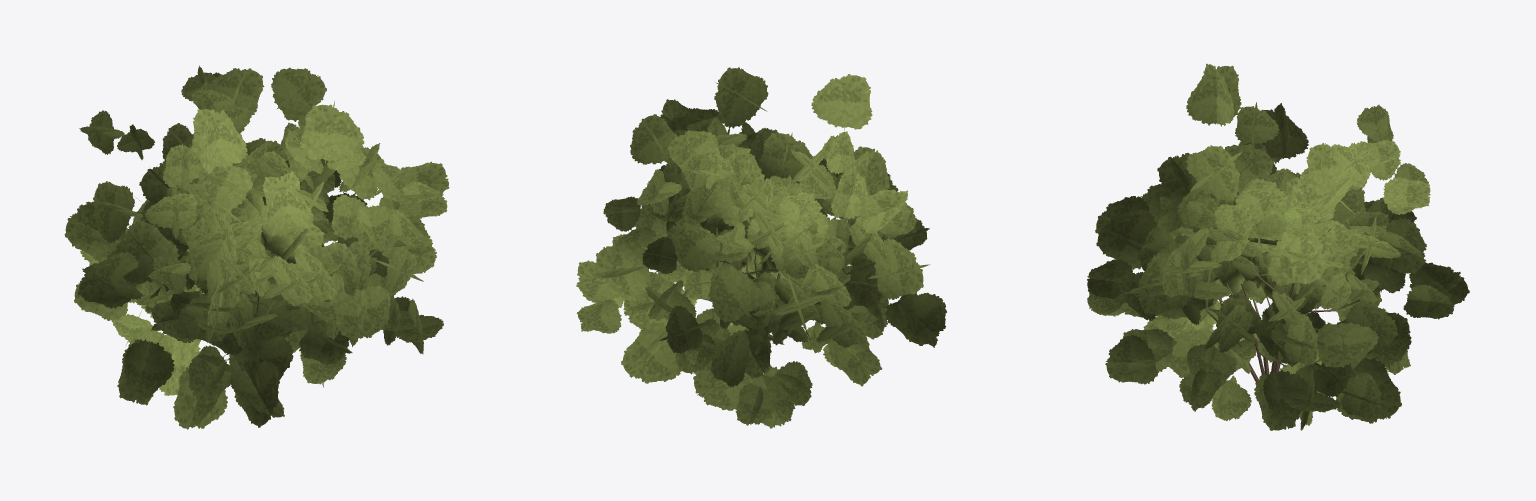
Rendered from matorral-bajo.glb.
3 renders of one model, left to right at view 1: azimuth 30°, elevation 25°; view 2: azimuth 150°, elevation 25°; view 3: azimuth 270°, elevation 25°, orthographic. The views are drawn at different scales.
Parts seen in each view (by area): view 1: matorral; view 2: matorral; view 3: matorral.
Boxes of the visible parts, x1,y1,x2,y2 form: matorral: (64,65,449,429); matorral: (576,67,946,428); matorral: (1087,63,1469,430).
Size of the model in its own units: 3.66 by 3.4 by 3.7.
Materials: 2 (1 with a texture image).
